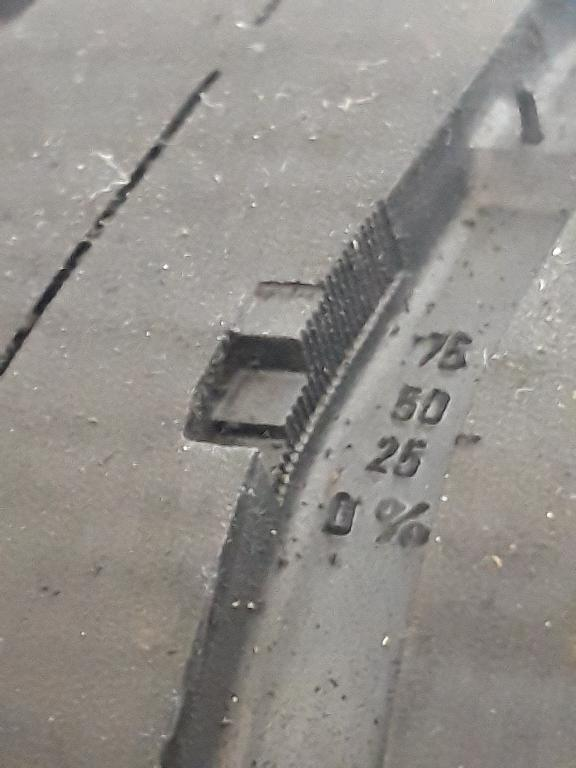temoin:50: (170, 255, 373, 532)
